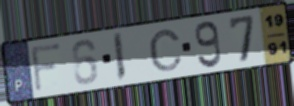6: (70, 38, 99, 87)
7: (228, 13, 258, 64)
9: (194, 20, 223, 68)
C: (147, 28, 185, 73)
F: (29, 41, 63, 95)
I: (111, 31, 128, 84)
